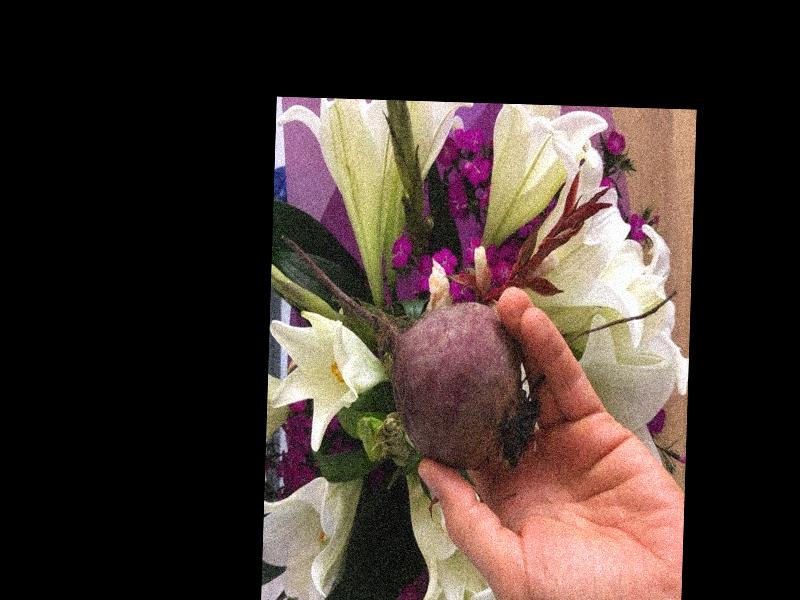Beet: (276, 233, 543, 471)
